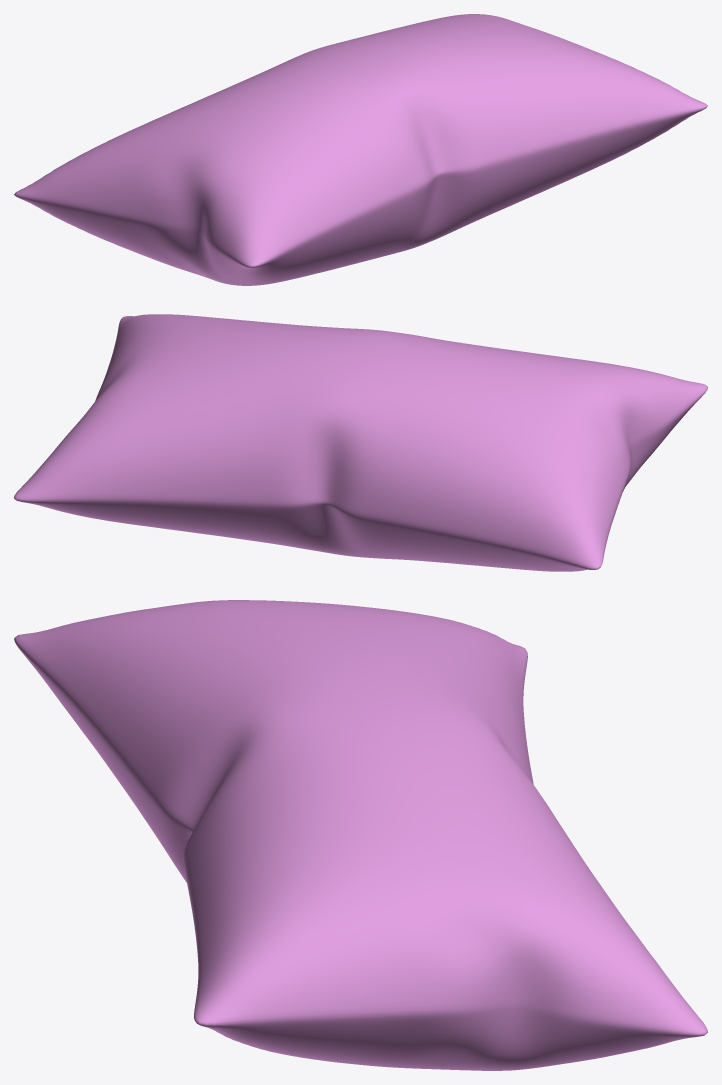
Rendered from pillow.fbx.
3 views of the same model, one above another, from view 1: azimuth 30°, elevation 25°; view 2: azimuth 150°, elevation 25°; view 3: azimuth 270°, elevation 25° (orthographic). The views are drawn at different scales.
Parts seen in each view (by area): view 1: Plane; view 2: Plane; view 3: Plane.
Boxes of the visible parts, <box> form: Plane: <box>14,14,707,285</box>; Plane: <box>14,314,707,571</box>; Plane: <box>14,600,707,1070</box>.
Bounding box in the file's own units: 649 × 196 × 457.
